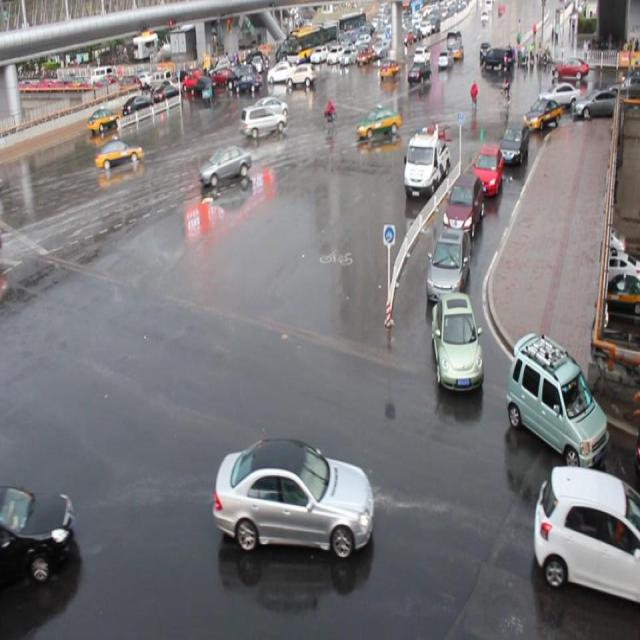bus: (402, 128, 448, 198)
car: (213, 432, 374, 554), (503, 327, 609, 472), (530, 465, 640, 603), (0, 483, 74, 582), (429, 288, 483, 390), (426, 225, 470, 302), (442, 174, 482, 236), (199, 147, 250, 186), (470, 144, 501, 196), (356, 106, 401, 138), (521, 95, 561, 131), (96, 138, 142, 167), (498, 122, 528, 166), (252, 98, 289, 124)
truck: (240, 105, 286, 138)
